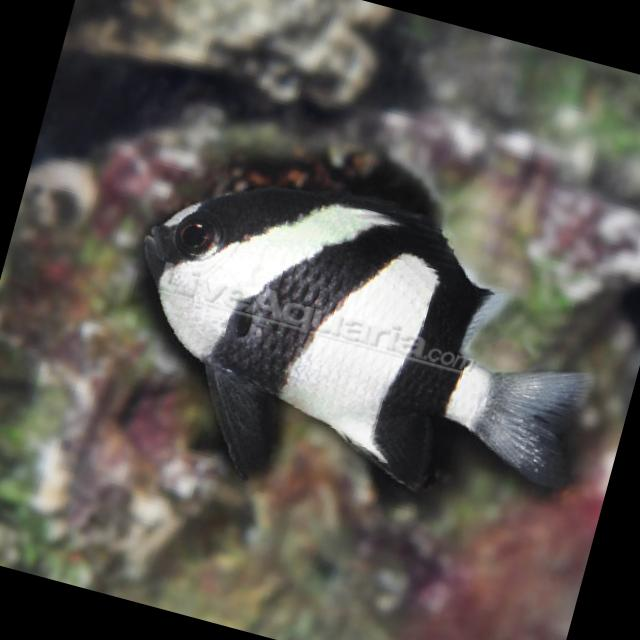ThreeStripedDamselfish: (84, 136, 632, 564)
